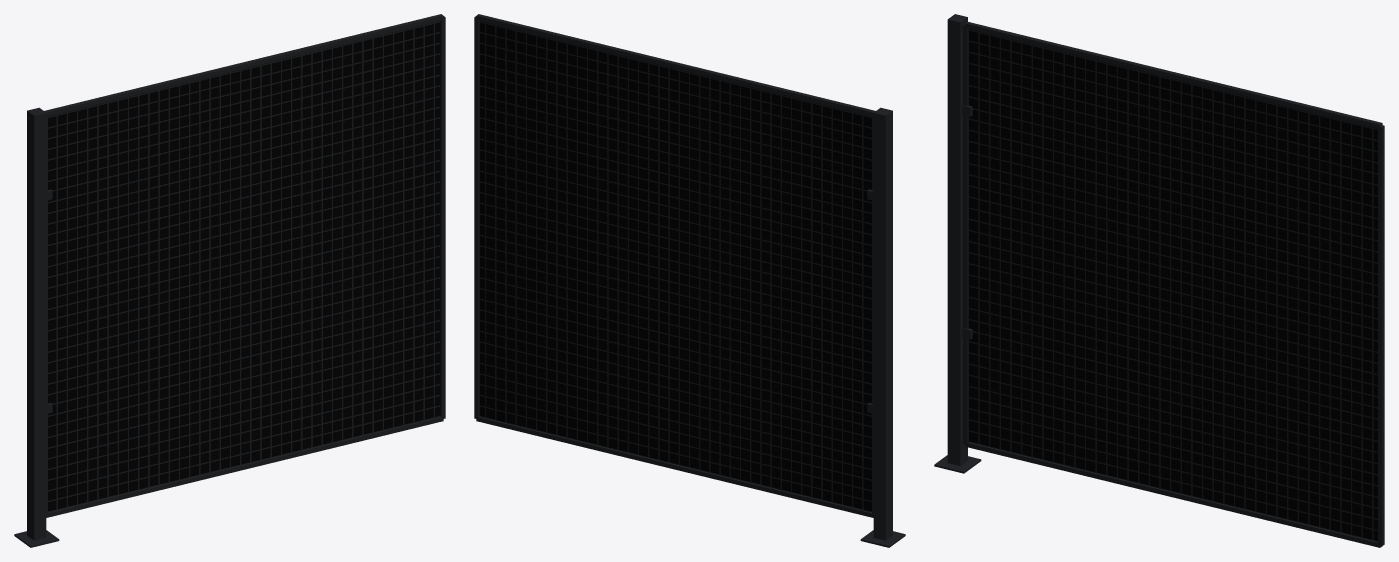
Rendered from fence_panel_2m.glb.
The picture shows the model from 3 angles, left to right: view 1: azimuth 30°, elevation 25°; view 2: azimuth 150°, elevation 25°; view 3: azimuth 330°, elevation 25°; orthographic projection. The views are drawn at different scales.
Visible parts, largest first — view 1: Fence_Panel_wire_mesh_black, Fence_Panel_black_paint; view 2: Fence_Panel_wire_mesh_black, Fence_Panel_black_paint; view 3: Fence_Panel_wire_mesh_black, Fence_Panel_black_paint.
Part boxes in pixels (x1,y1,x2,y2): Fence_Panel_wire_mesh_black: (48, 21, 440, 511); Fence_Panel_black_paint: (14, 14, 445, 547); Fence_Panel_wire_mesh_black: (479, 21, 871, 511); Fence_Panel_black_paint: (474, 14, 905, 547); Fence_Panel_wire_mesh_black: (968, 29, 1377, 541); Fence_Panel_black_paint: (934, 14, 1384, 547).
Size of the model in its own units: 2.07 by 2 by 0.14.
2 materials, 1 textured.
